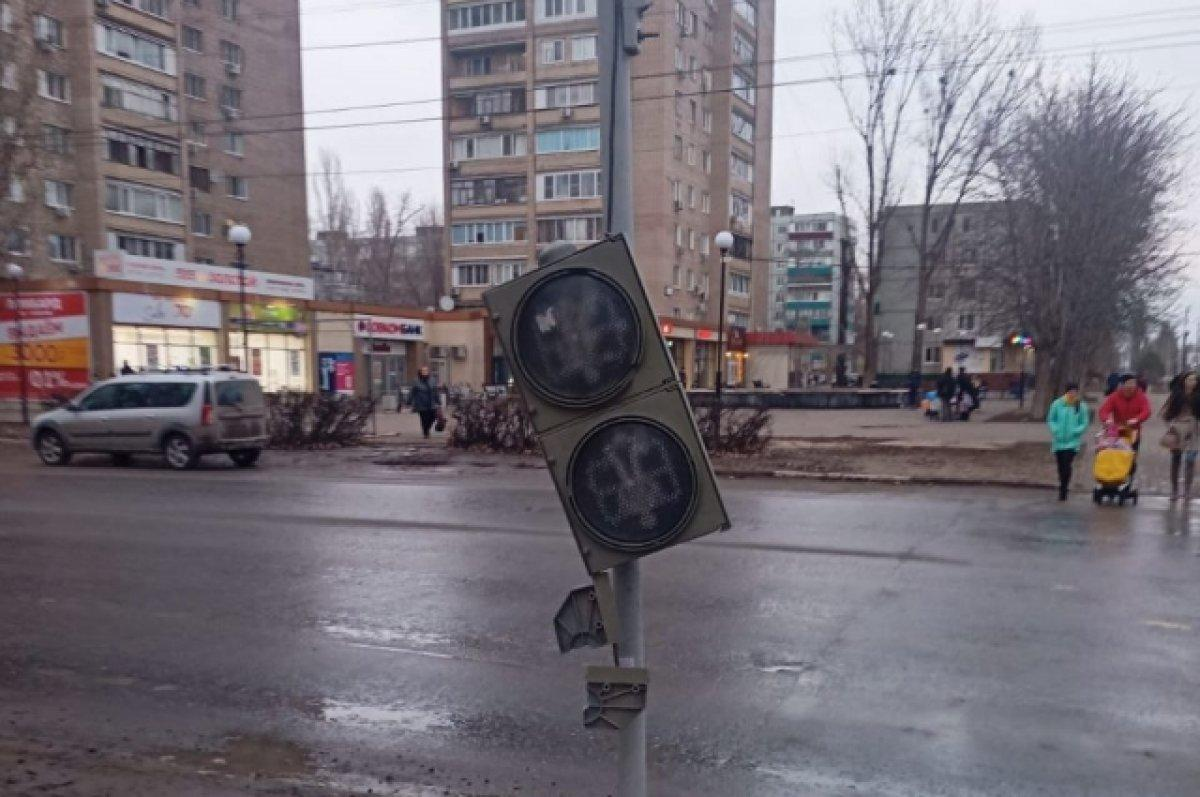off traffic light: (484, 238, 729, 574)
